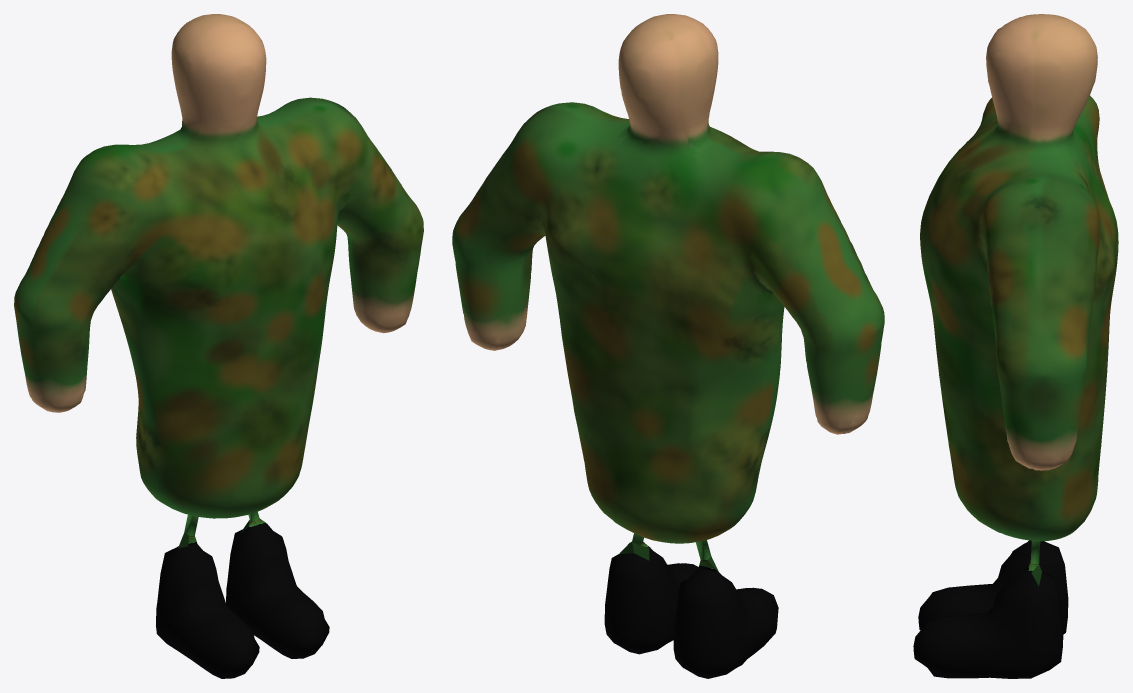
File: Soldier2023_1.fbx
3 views of the same model, side by side, from view 1: azimuth 30°, elevation 25°; view 2: azimuth 150°, elevation 25°; view 3: azimuth 270°, elevation 25° (orthographic). The views are drawn at different scales.
Parts seen in each view (by area): view 1: Body.002; view 2: Body.002; view 3: Body.002.
Boxes of the visible parts, <box> form: Body.002: <box>14,14,423,678</box>; Body.002: <box>452,14,884,678</box>; Body.002: <box>913,14,1118,678</box>.
Size of the model in its own units: 166 by 247 by 71.06.
